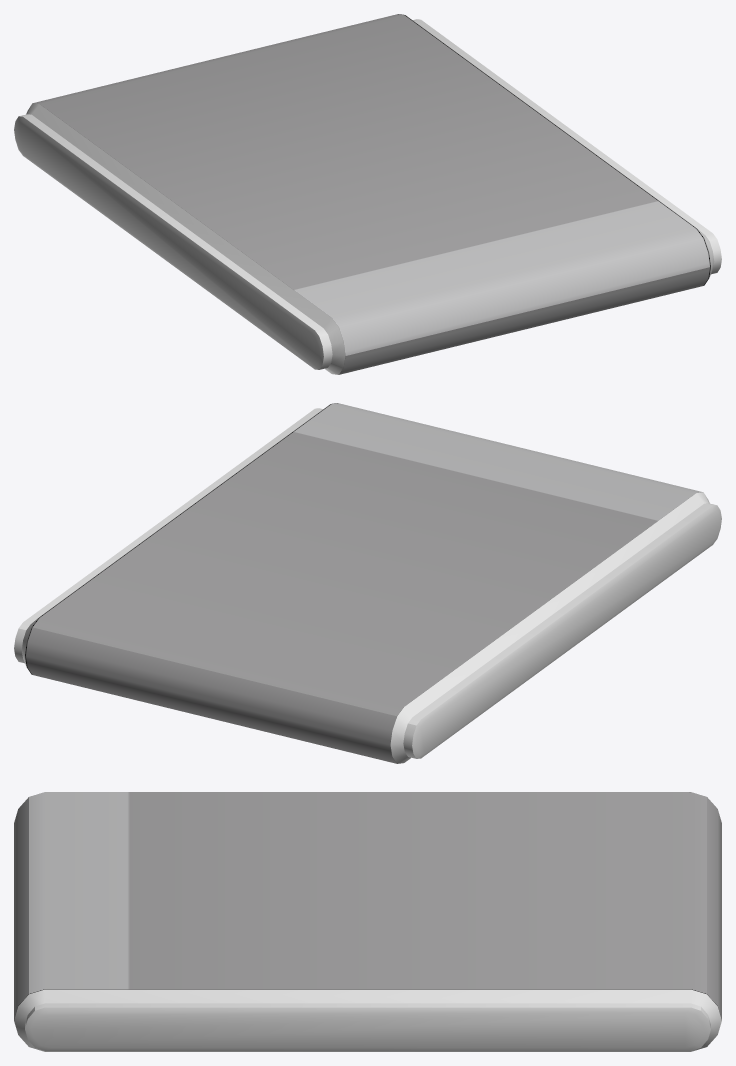
The model's file is Conveyor.fbx.
3 views of the same model, one above another, from view 1: azimuth 30°, elevation 25°; view 2: azimuth 150°, elevation 25°; view 3: azimuth 270°, elevation 25° (orthographic). The views are drawn at different scales.
Parts seen in each view (by area): view 1: ConveyorBelt; view 2: ConveyorBelt; view 3: ConveyorBelt.
Part boxes in pixels (x1,y1,x2,y2): ConveyorBelt: [14, 14, 721, 374]; ConveyorBelt: [14, 403, 721, 763]; ConveyorBelt: [14, 792, 721, 1051].
Bounding box in the file's own units: 475 × 63.56 × 655.
